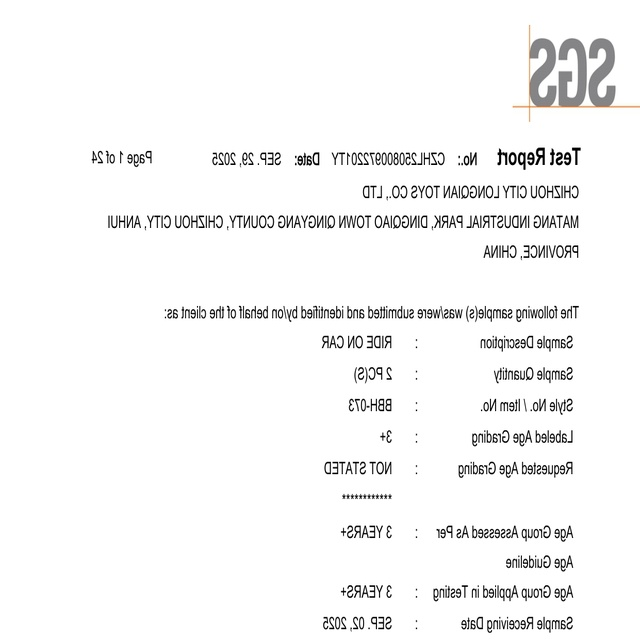sgs: (530, 38, 616, 108)
